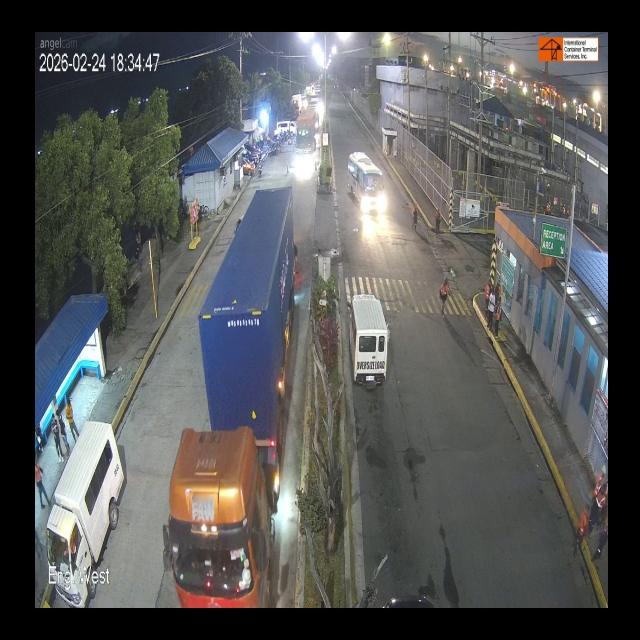bus: (349, 149, 387, 216)
car: (49, 444, 115, 572), (348, 289, 388, 390)
truck: (162, 175, 308, 609), (291, 111, 319, 176)
